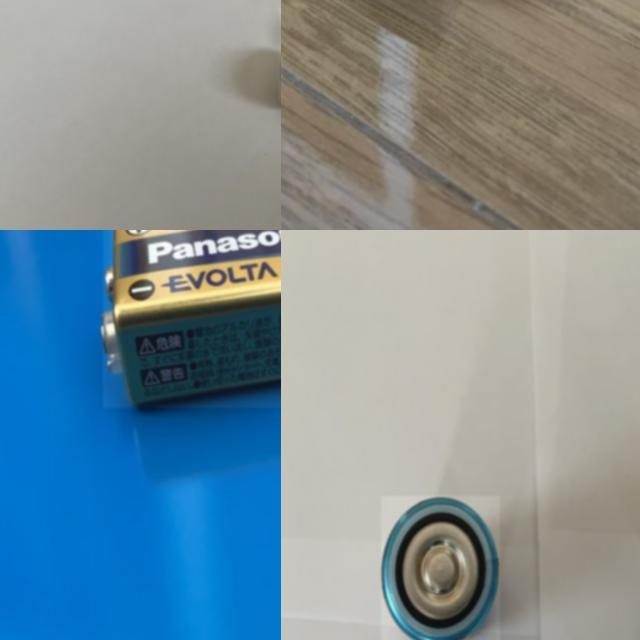9V: (102, 230, 281, 408)
